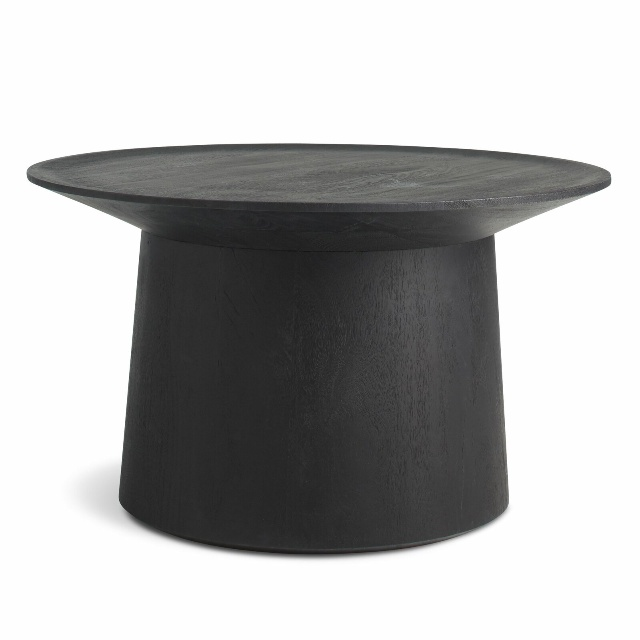obstacle: (27, 144, 610, 552)
